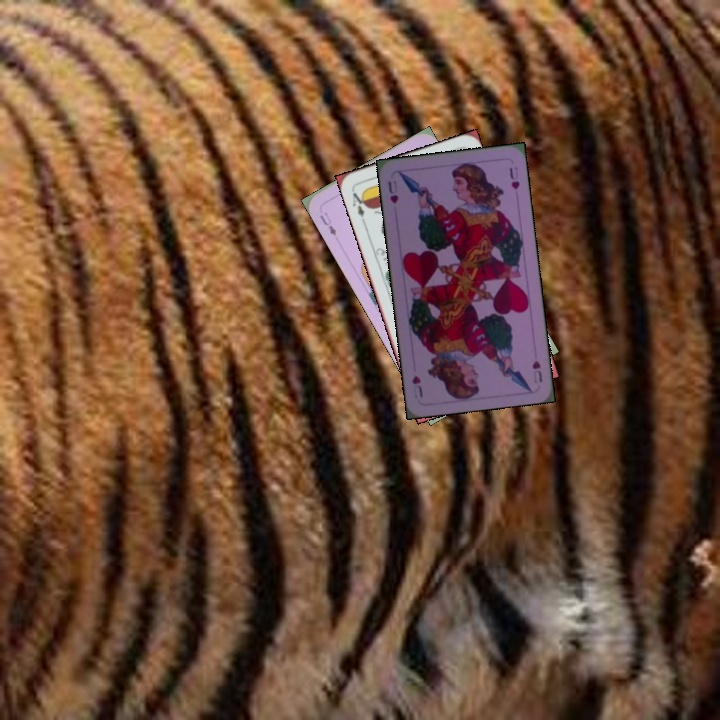EA: (348, 186, 370, 226)
EU: (316, 208, 339, 238)
HU: (384, 176, 401, 206), (528, 356, 545, 386)
